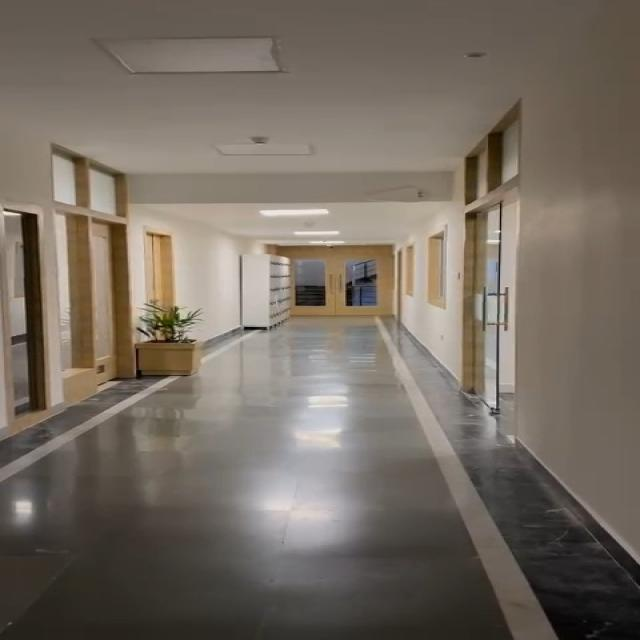door: (432, 144, 522, 424), (49, 146, 125, 364), (0, 212, 53, 421), (272, 246, 409, 324), (147, 230, 185, 318)
floor: (0, 447, 552, 640), (283, 328, 413, 473), (126, 372, 291, 449)
furniture: (129, 305, 206, 383)
wall: (520, 65, 640, 509), (379, 203, 466, 333), (182, 228, 247, 330)
